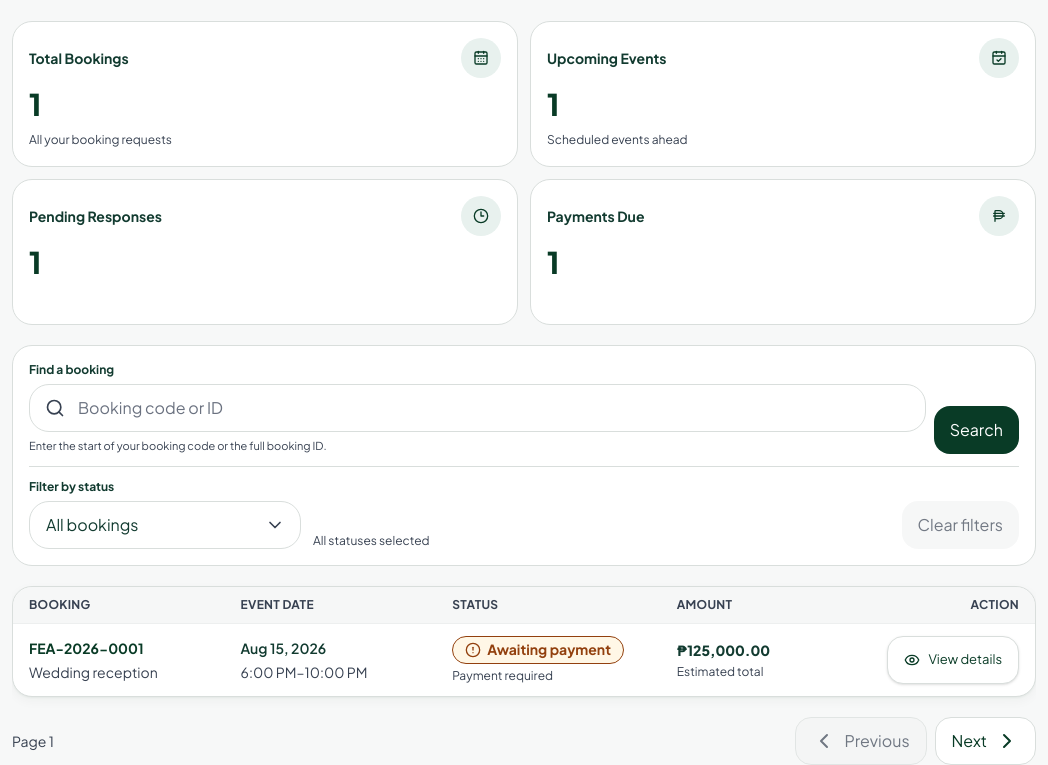
Test: customer booking history and details › revalidates the visible page and summary without resetting the page number
This screenshot has width=1048, height=765.
(page scrolled)
Click the button "Next" at (985, 741), box [934, 717, 1036, 764]
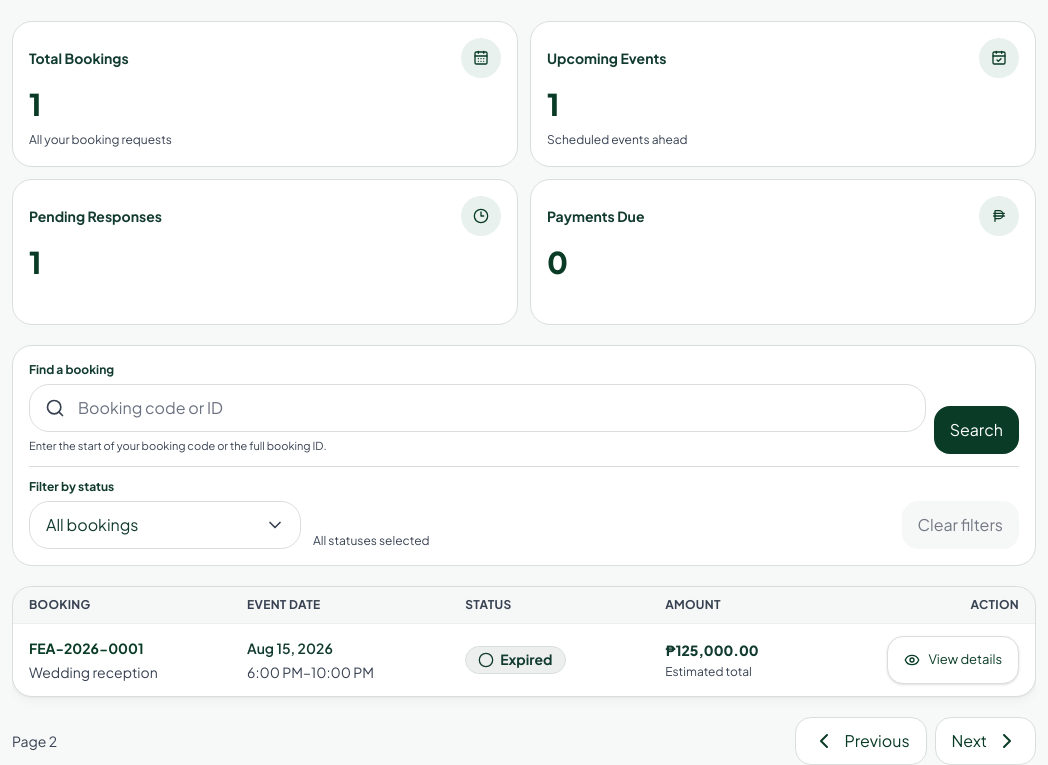
Expected: the text "0" is shown, [547, 243, 567, 281]
Now the text "Page 2" is shown, box [12, 731, 57, 751]
